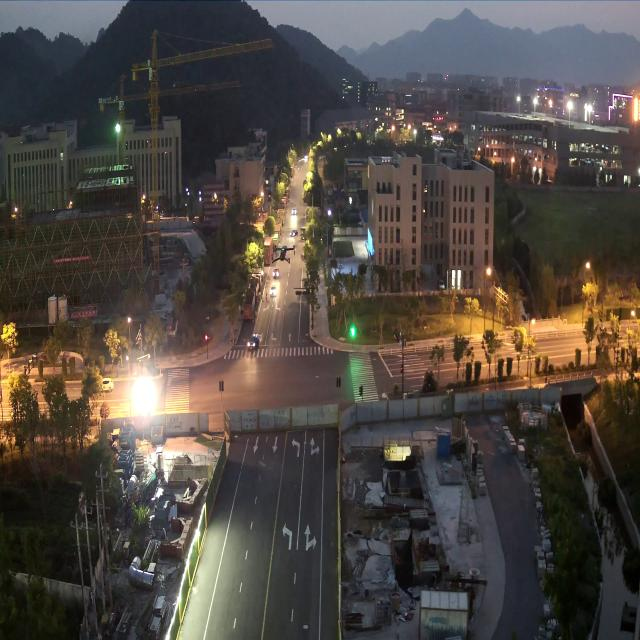UAV: (271, 241, 297, 266)
